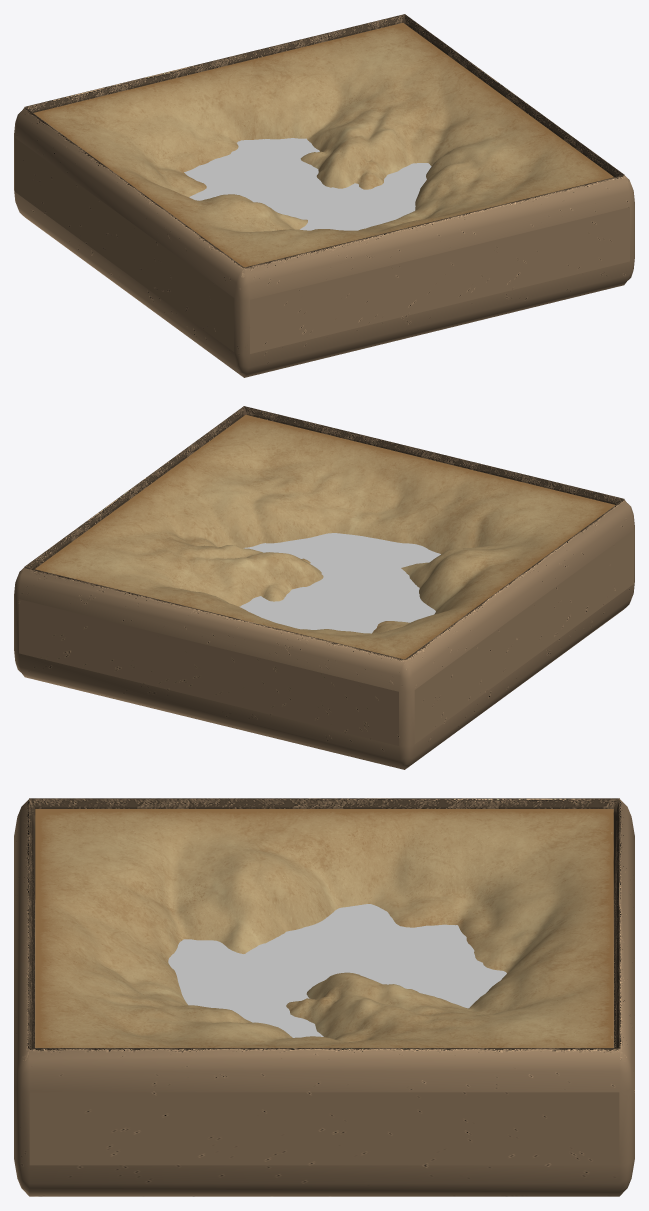
File: Террейн5.fbx
3 renders of one model, top to bottom at view 1: azimuth 30°, elevation 25°; view 2: azimuth 150°, elevation 25°; view 3: azimuth 270°, elevation 25°, orthographic. The views are drawn at different scales.
Visible parts, largest first — view 1: Cube, Landscape_1, Plane; view 2: Cube, Landscape_1, Plane; view 3: Landscape_1, Cube, Plane.
Boxes of the visible parts, bbox=[...] form: Cube: bbox=[14, 14, 634, 377]; Landscape_1: bbox=[33, 23, 613, 267]; Plane: bbox=[184, 138, 431, 230]; Cube: bbox=[14, 406, 634, 769]; Landscape_1: bbox=[35, 415, 615, 659]; Plane: bbox=[239, 533, 440, 633]; Landscape_1: bbox=[35, 809, 613, 1047]; Cube: bbox=[14, 798, 634, 1196]; Plane: bbox=[168, 904, 506, 1037].
Size of the model in its own units: 814 by 215 by 814.
